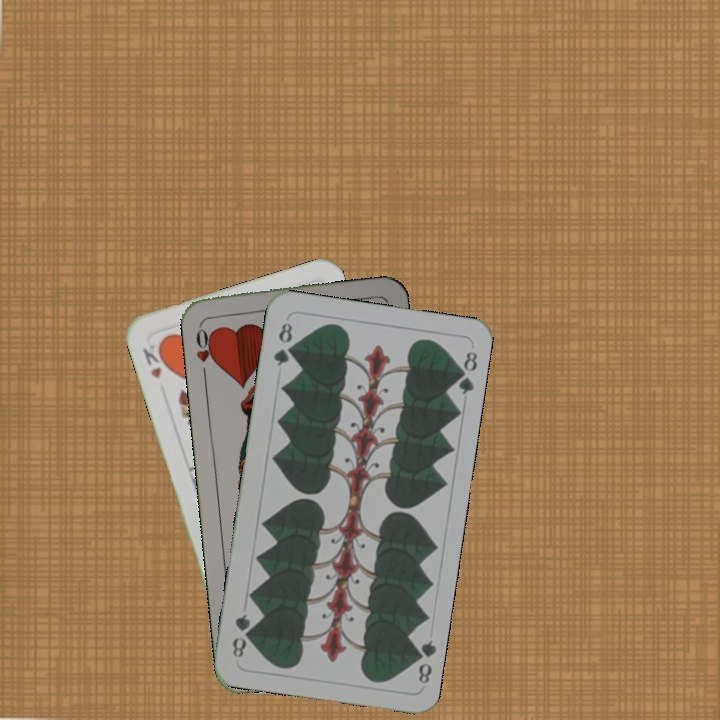G8: (408, 636, 438, 686), (269, 318, 295, 369)
HK: (138, 336, 171, 382)
HO: (191, 320, 219, 379)
